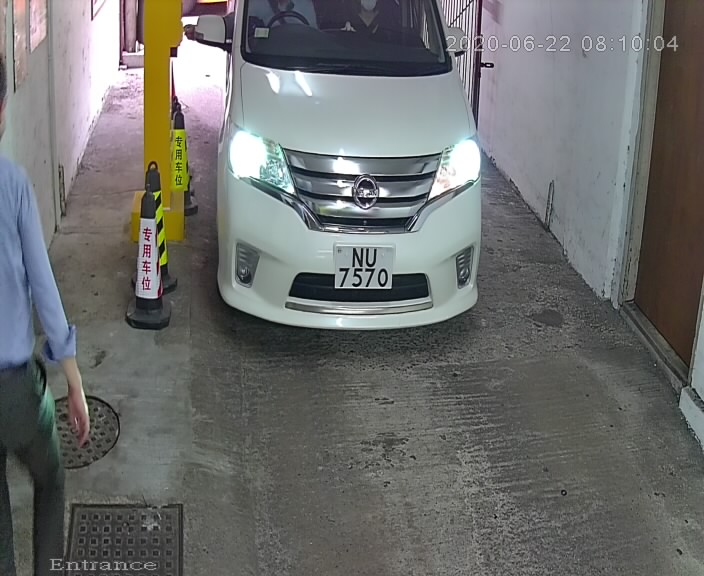privatecar: (191, 2, 514, 373)
